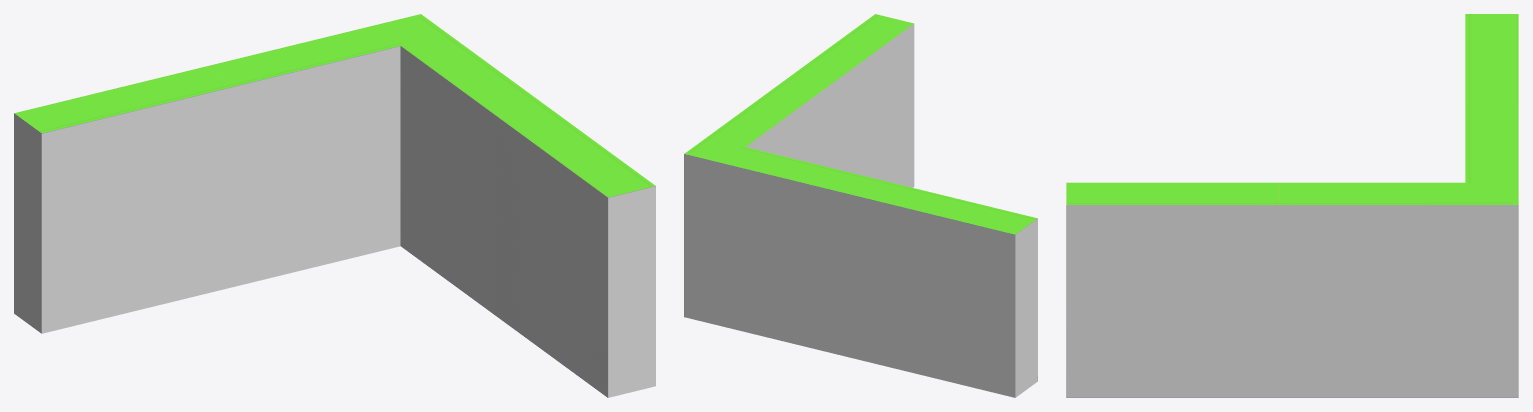
File: MK_MK_Wall_Corner_In_Half_A.fbx
3 renders of one model, left to right at view 1: azimuth 30°, elevation 25°; view 2: azimuth 150°, elevation 25°; view 3: azimuth 270°, elevation 25°, orthographic. The views are drawn at different scales.
Visible parts, largest first — view 1: MK_Wall_Corner_In_Half_A; view 2: MK_Wall_Corner_In_Half_A; view 3: MK_Wall_Corner_In_Half_A.
Part boxes in pixels (x1,y1,x2,y2): MK_Wall_Corner_In_Half_A: (14,14,655,397); MK_Wall_Corner_In_Half_A: (684,14,1037,397); MK_Wall_Corner_In_Half_A: (1066,14,1518,397).
Bounding box in the file's own units: 191 × 90 × 191.
1 material, 1 textured.
